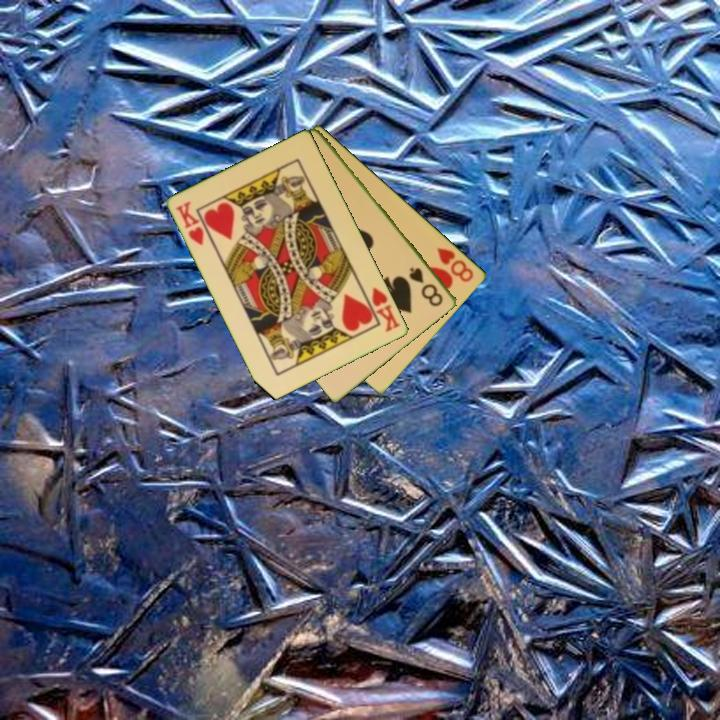8h: (434, 244, 477, 285)
8s: (406, 263, 446, 309)
Kh: (360, 284, 403, 335), (173, 197, 207, 249)
